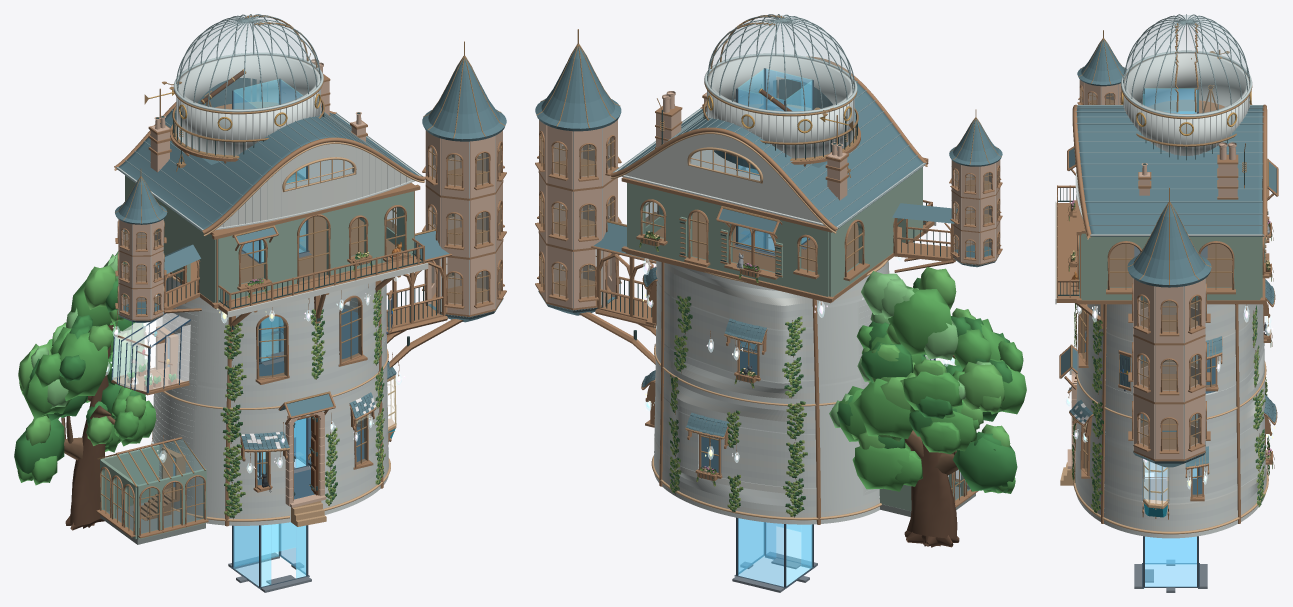
File: mansion-v08-Bw6n1ZOf.glb
3 renders of one model, left to right at view 1: azimuth 30°, elevation 25°; view 2: azimuth 150°, elevation 25°; view 3: azimuth 270°, elevation 25°, orthographic. The views are drawn at different scales.
Visible parts, largest first — view 1: M01_Reuse_TREE_Left_Foliage, M01_Reuse_CURVE_BellGable_SlateRoof, M01_Reuse_ObsDome_Curved, M01_Reuse_CURVE_Observatory_CylindricalDrum, M01_Reuse_CURVE_ArchedGable_PaintedTimber, M01_Tower_WitchHat, M01_Reuse_TREE_Left_Trunk, M01_UpperFloor_Slab, M05_Elevator_Shaft_Glass_North, M01_Conservatory_RoofGlass, M05_Elevator_Shaft_Glass_East, M01_Conservatory_Back (+44 smaller); view 2: M01_Reuse_TREE_Left_Foliage, M01_Reuse_CURVE_BellGable_SlateRoof, M01_Reuse_ObsDome_Curved, M01_Reuse_CURVE_Observatory_CylindricalDrum, M01_Reuse_CURVE_ArchedGable_Rear, M01_Reuse_TREE_Left_Trunk, M01_Tower_WitchHat, M05_Elevator_Shaft_Glass_North, M01_UpperFloor_Slab, M04_WestPassage, M05_Elevator_Shaft_Glass_West, M01_Reuse_CURVE_Roof_Soffit (+62 smaller); view 3: M01_Reuse_CURVE_BellGable_SlateRoof, M01_Reuse_CURVE_Observatory_CylindricalDrum, M01_Reuse_ObsDome_Curved, M01_Tower_WitchHat, M05_Elevator_Shaft_Glass_East, M05_Elevator_Shaft_Glass_West, M01_UpperFloor_Slab, M01_UpperFloor_Side_L.002, M01_UpperFloor_Side_R.003, M01_GrandBalcony_Deck, M04_WestTurret_M01_Tower_WitchHat, M01_UpperFloor_Side_Glass.004 (+80 smaller).
Part boxes in pixels (x1,y1,x2,y2): M01_Reuse_TREE_Left_Foliage: (14,251,156,485); M01_Reuse_CURVE_BellGable_SlateRoof: (117,78,419,231); M01_Reuse_ObsDome_Curved: (177,15,319,108); M01_Reuse_CURVE_Observatory_CylindricalDrum: (177,55,320,155); M01_Reuse_CURVE_ArchedGable_PaintedTimber: (219,142,411,227); M01_Tower_WitchHat: (422,58,506,141); M01_Reuse_TREE_Left_Trunk: (61,324,148,530); M01_UpperFloor_Slab: (170,216,402,308); M05_Elevator_Shaft_Glass_North: (234,79,279,566); M01_Conservatory_RoofGlass: (119,439,206,486); M05_Elevator_Shaft_Glass_East: (280,79,305,574); M01_Conservatory_Back: (100,445,159,511); M01_Reuse_TREE_Left_Foliage: (829,267,1026,493); M01_Reuse_CURVE_BellGable_SlateRoof: (617,79,924,229); M01_Reuse_ObsDome_Curved: (708,15,853,110); M01_Reuse_CURVE_Observatory_CylindricalDrum: (708,56,853,158); M01_Reuse_CURVE_ArchedGable_Rear: (625,132,821,222); M01_Reuse_TREE_Left_Trunk: (904,355,959,547); M01_Tower_WitchHat: (535,46,621,131); M05_Elevator_Shaft_Glass_North: (738,89,783,586); M01_UpperFloor_Slab: (625,212,924,303); M04_WestPassage: (892,203,958,272); M05_Elevator_Shaft_Glass_West: (786,81,812,585); M01_Reuse_CURVE_Roof_Soffit: (614,108,925,228); M01_Reuse_CURVE_BellGable_SlateRoof: (1077,106,1264,236); M01_Reuse_CURVE_Observatory_CylindricalDrum: (1124,53,1249,155); M01_Reuse_ObsDome_Curved: (1124,15,1248,113); M01_Tower_WitchHat: (1127,204,1211,287); M05_Elevator_Shaft_Glass_East: (1145,111,1196,586); M05_Elevator_Shaft_Glass_West: (1145,88,1196,563); M01_UpperFloor_Slab: (1079,243,1262,304); M01_UpperFloor_Side_L.002: (1081,233,1108,300); M01_UpperFloor_Side_R.003: (1233,236,1260,300); M01_GrandBalcony_Deck: (1056,203,1076,302); M04_WestTurret_M01_Tower_WitchHat: (1077,39,1126,86); M01_UpperFloor_Side_Glass.004: (1200,244,1231,287).
Bounding box in the file's own units: 36.61 × 40.42 × 14.88.
